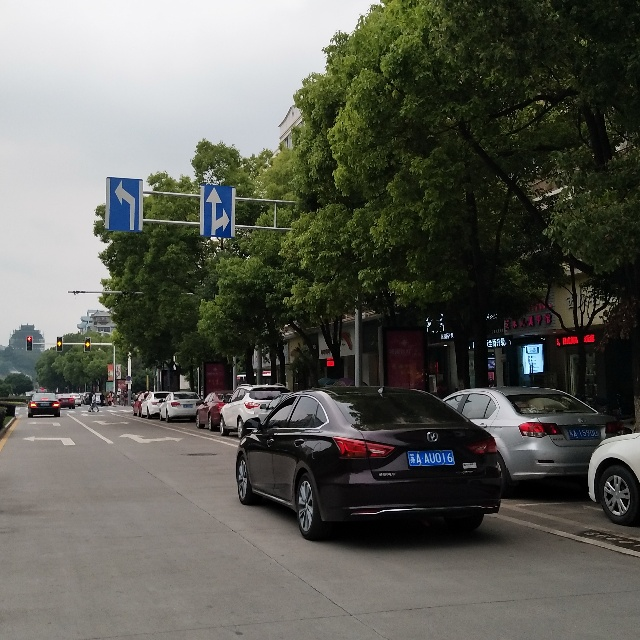left: (101, 171, 145, 238)
